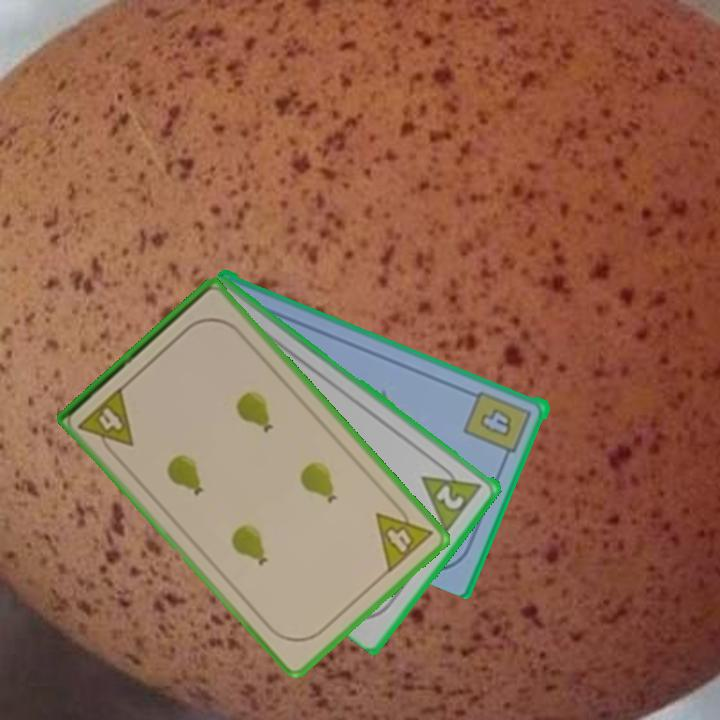2p: (418, 456, 486, 535)
4b: (461, 387, 536, 463)
4p: (372, 495, 436, 576), (74, 383, 137, 461)
